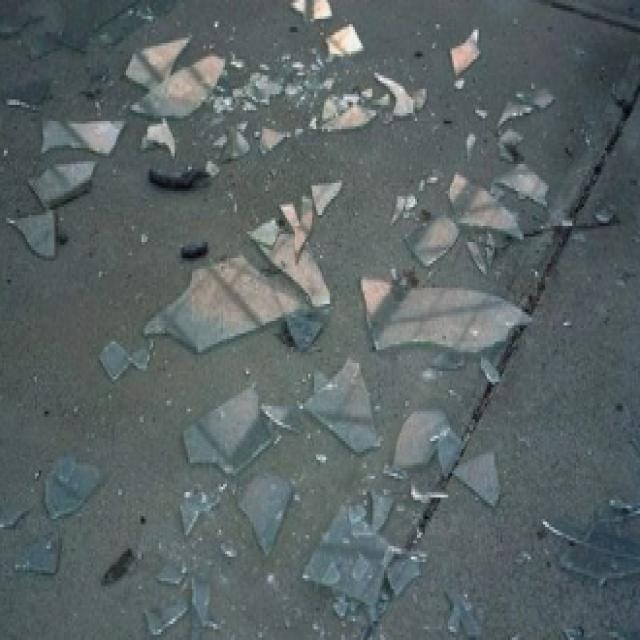PecahanKaca: (3, 0, 620, 637), (140, 189, 530, 508), (6, 24, 222, 263)
